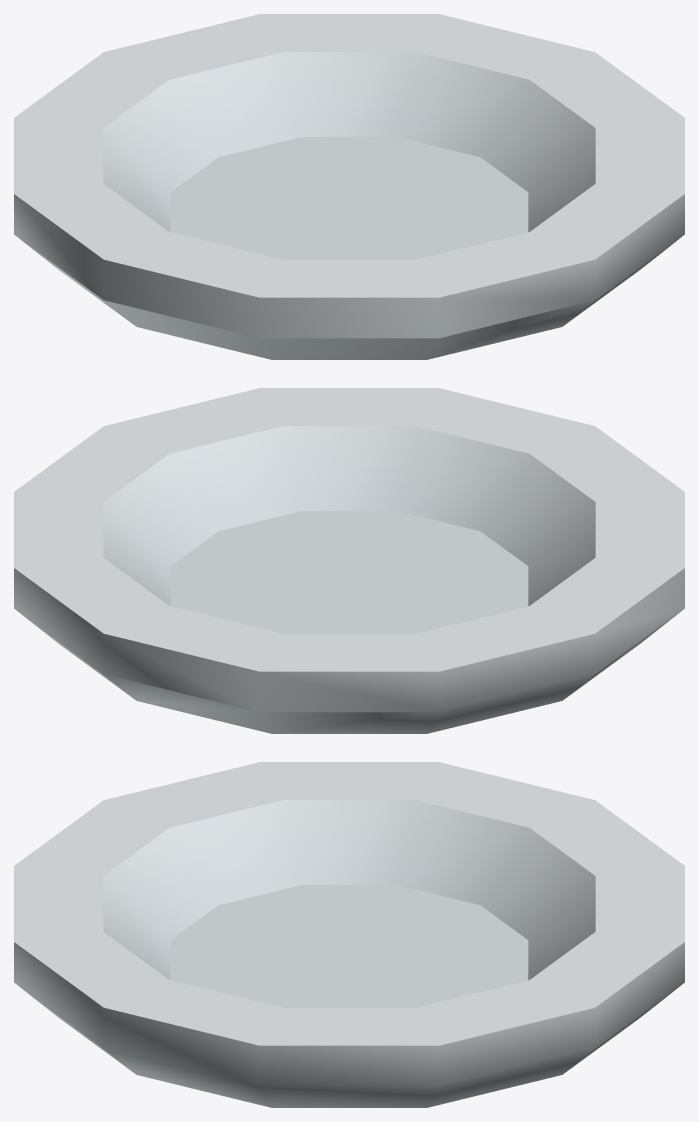
Rendered from kay-plate_small.glb.
3 views of the same model, one above another, from view 1: azimuth 30°, elevation 25°; view 2: azimuth 150°, elevation 25°; view 3: azimuth 270°, elevation 25° (orthographic).
Visible parts, largest first — view 1: plate_small; view 2: plate_small; view 3: plate_small.
Part boxes in pixels (x1,y1,x2,y2): plate_small: (14,14,684,359); plate_small: (14,388,684,733); plate_small: (14,762,684,1107).
Bounding box in the file's own units: 0.22 × 0.0293 × 0.22.
Materials: 1 (1 with a texture image).
